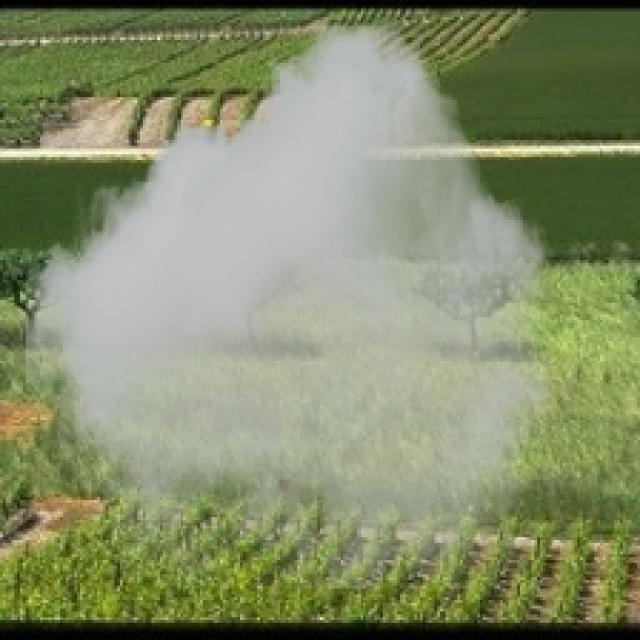Smoke: (26, 22, 554, 588)
